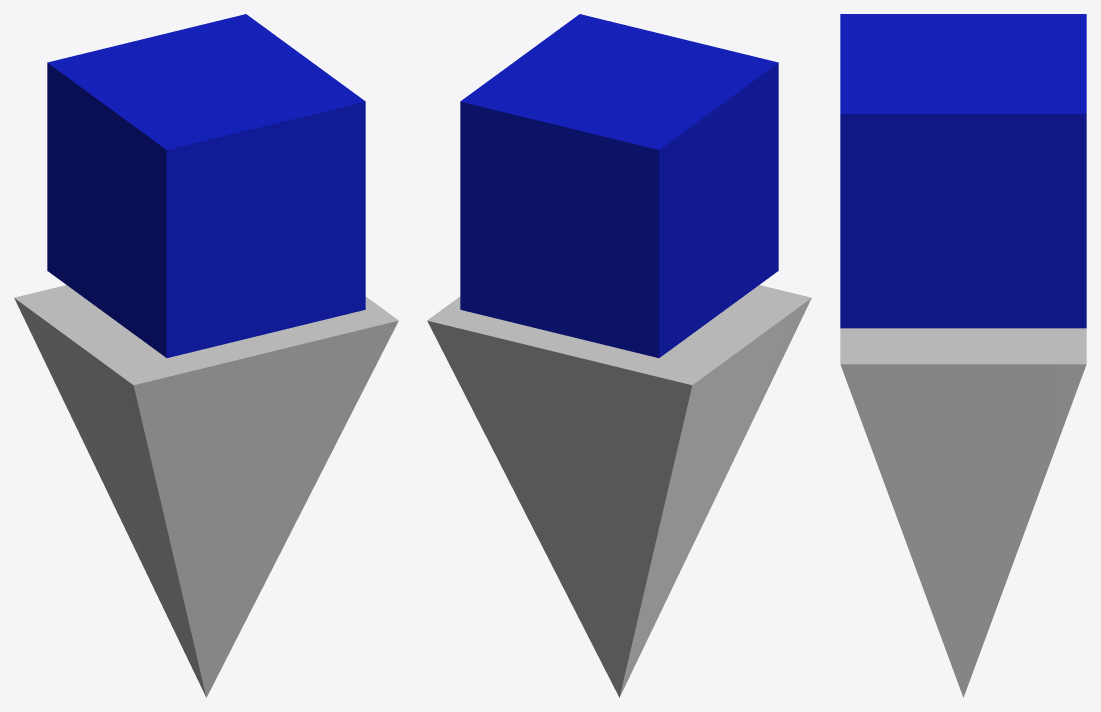
Rendered from player_head.obj.
3 views of the same model, side by side, from view 1: azimuth 30°, elevation 25°; view 2: azimuth 150°, elevation 25°; view 3: azimuth 270°, elevation 25° (orthographic). The views are drawn at different scales.
Visible parts, largest first — view 1: head; view 2: head; view 3: head.
Boxes of the visible parts, box(x1,y1,x2,y2) form: head: box(14, 14, 398, 697); head: box(427, 14, 811, 697); head: box(840, 14, 1086, 697).
Size of the model in its own units: 0.2639 by 0.5856 by 0.2061.
